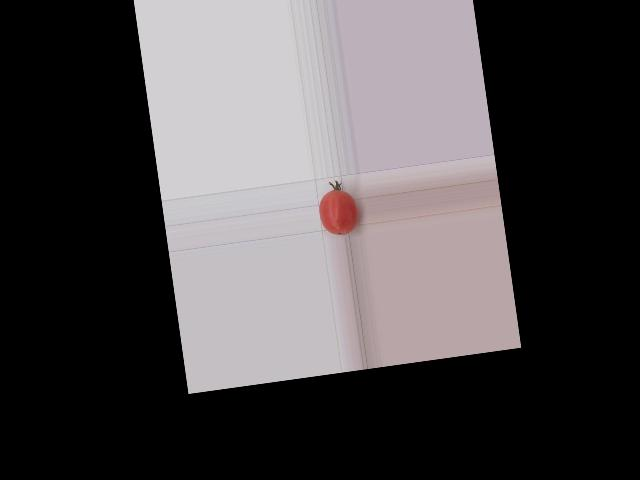tomato: (316, 187, 360, 237)
